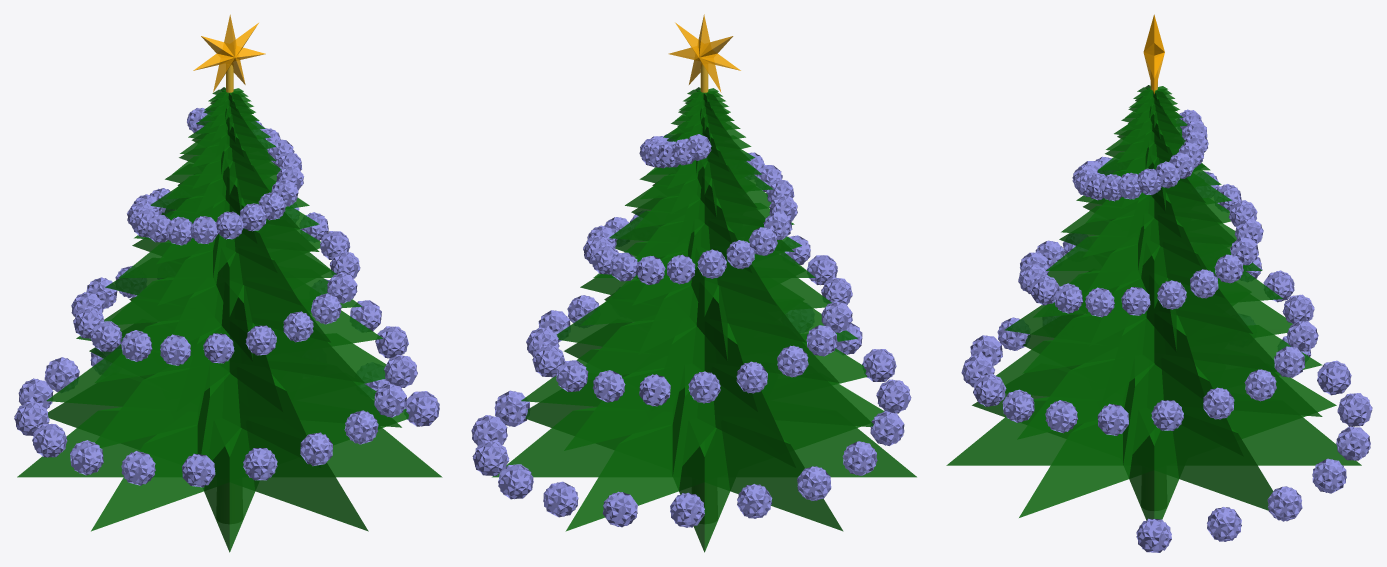
The model's file is fractaltreee.glb.
The picture shows the model from 3 angles, left to right: view 1: azimuth 30°, elevation 25°; view 2: azimuth 150°, elevation 25°; view 3: azimuth 270°, elevation 25°; orthographic projection. The views are drawn at different scales.
Size of the model in its own units: 10.02 by 12.34 by 9.7.
